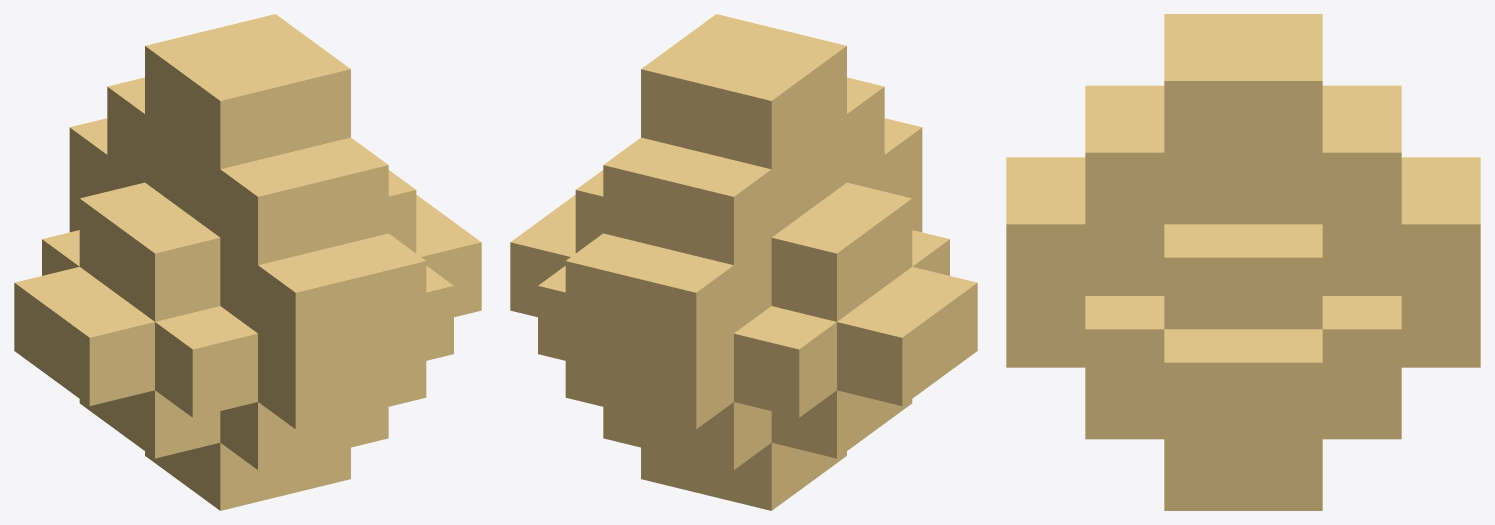
The model's file is yellow_gem.glb.
3 views of the same model, side by side, from view 1: azimuth 30°, elevation 25°; view 2: azimuth 150°, elevation 25°; view 3: azimuth 270°, elevation 25° (orthographic). The views are drawn at different scales.
Parts seen in each view (by area): view 1: Untitled; view 2: Untitled; view 3: Untitled.
Part boxes in pixels (<box>): Untitled: <box>14,14,481,510</box>; Untitled: <box>510,14,977,510</box>; Untitled: <box>1006,14,1480,510</box>.
Size of the model in its own units: 0.6 by 0.6 by 0.6.
Materials: 1 (1 with a texture image).
